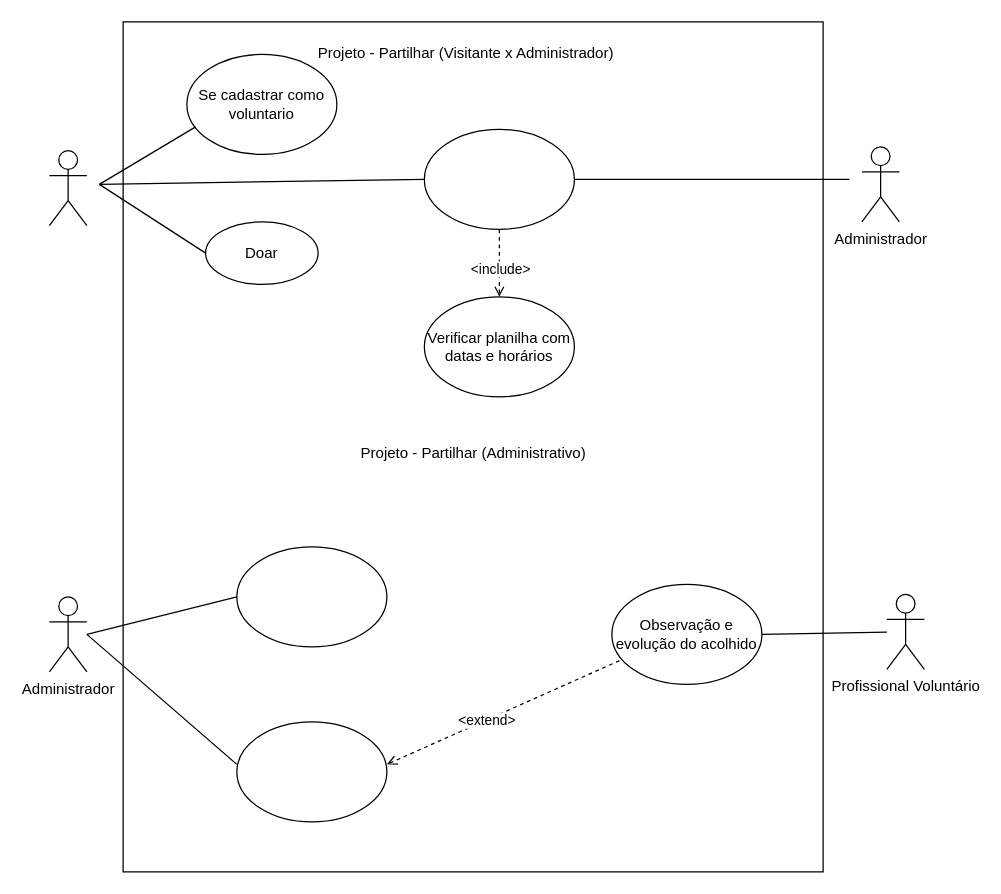
Some shapes in this 1001 by 894 pixel diagram are drawn without their labels. The box of each missing label's shape, as (x1, y1, x2, y2) in pixels:
Recebe os formulários do voluntariado: (236, 546, 387, 647)
Solicitar atendimento: (423, 128, 574, 229)
Visitante: (48, 149, 87, 226)
Visualiza planilha: (236, 721, 387, 822)
